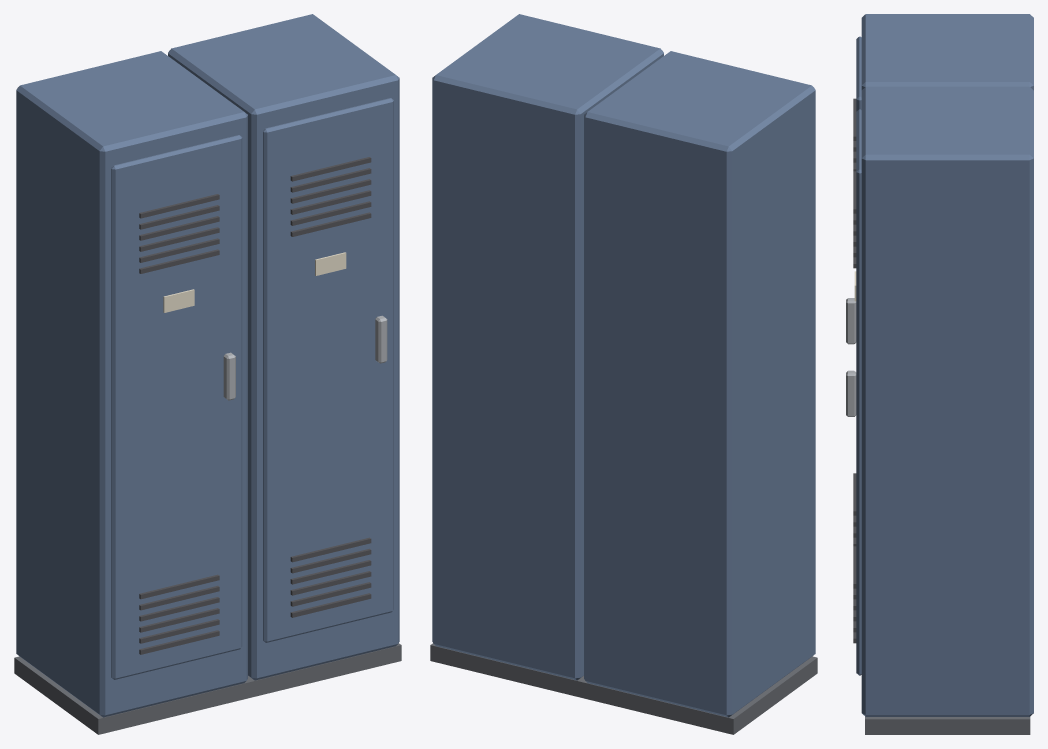
The model's file is Garage_Lockers.glb.
3 renders of one model, left to right at view 1: azimuth 30°, elevation 25°; view 2: azimuth 150°, elevation 25°; view 3: azimuth 270°, elevation 25°, orthographic.
Visible parts, largest first — view 1: Garage_Lockers; view 2: Garage_Lockers; view 3: Garage_Lockers.
Boxes of the visible parts, bbox=[...] form: Garage_Lockers: bbox=[14, 14, 401, 734]; Garage_Lockers: bbox=[430, 14, 817, 734]; Garage_Lockers: bbox=[846, 14, 1033, 734].
Bounding box in the file's own units: 1 × 1.85 × 0.545.
